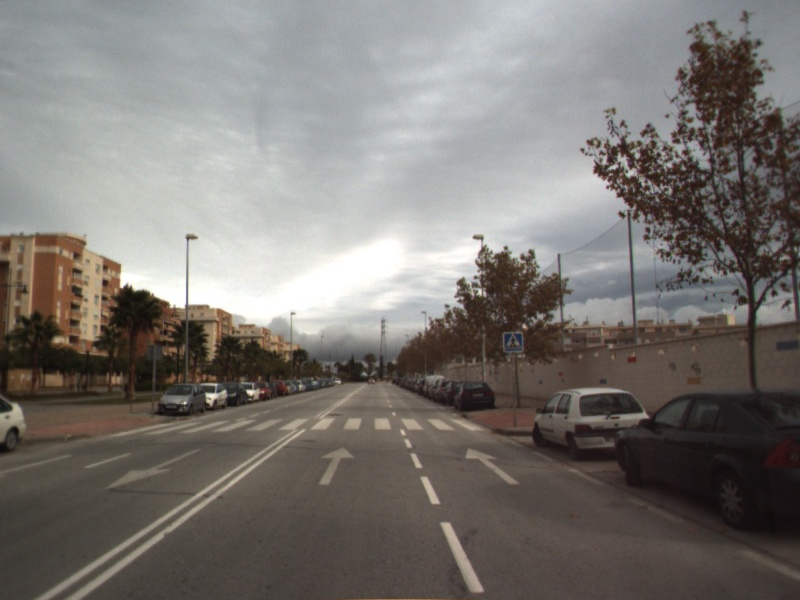STRAIGHT: (464, 445, 522, 486), (316, 444, 356, 487)
